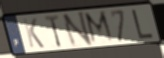7: (109, 8, 126, 43)
K: (21, 17, 46, 49)
L: (131, 8, 156, 40)
M: (83, 9, 117, 46)
N: (60, 9, 94, 49)
T: (43, 13, 63, 50)
